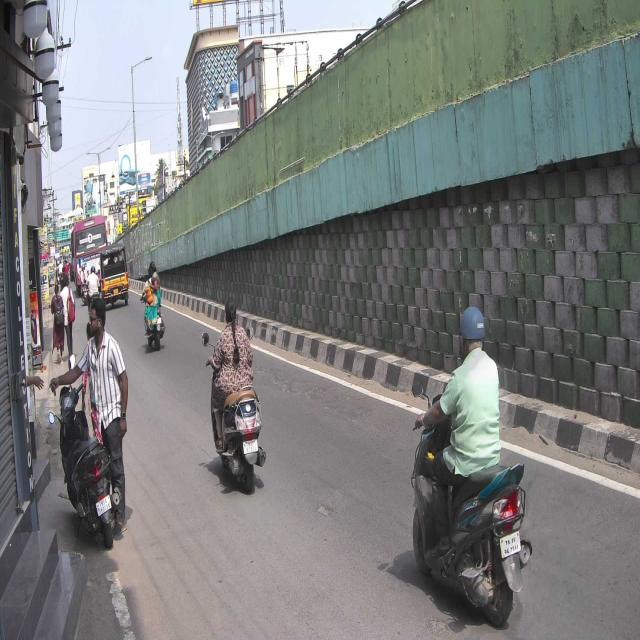single_rider: (412, 306, 533, 627), (204, 298, 266, 492)
